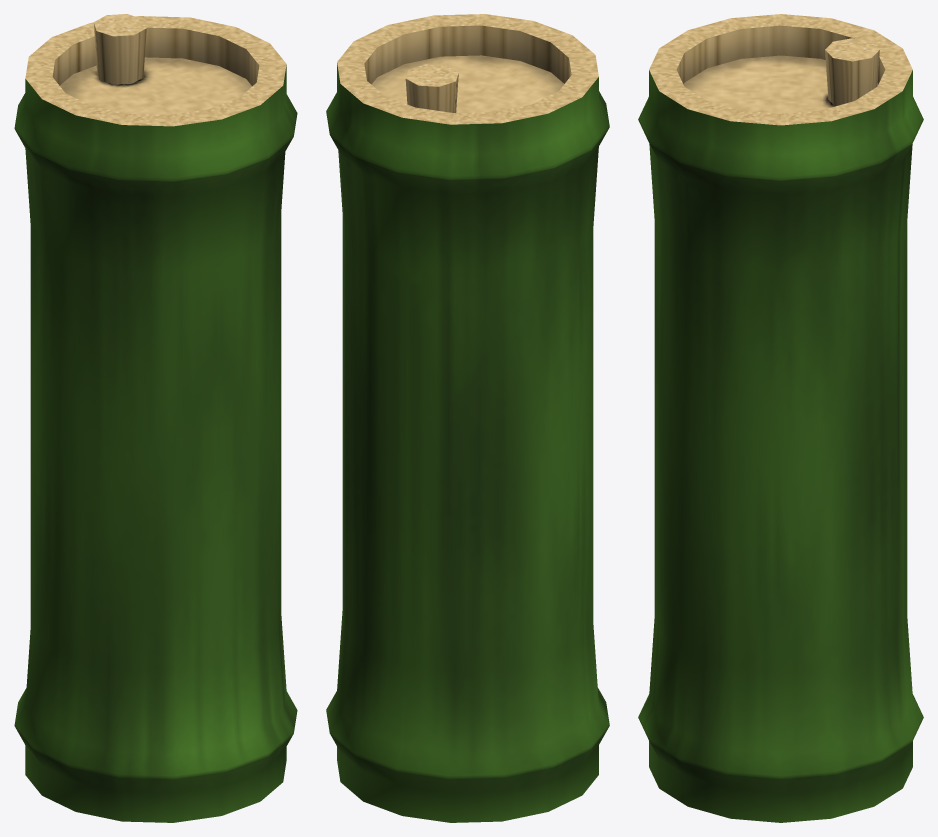
Rendered from Bamboo water bottle1-1.fbx.
3 views of the same model, side by side, from view 1: azimuth 30°, elevation 25°; view 2: azimuth 150°, elevation 25°; view 3: azimuth 270°, elevation 25° (orthographic).
Visible parts, largest first — view 1: obj1; view 2: obj1; view 3: obj1.
Part boxes in pixels (<box>): obj1: <box>14,14,297,822</box>; obj1: <box>326,14,609,822</box>; obj1: <box>638,14,923,822</box>.
Bounding box in the file's own units: 13 × 36 × 13.
